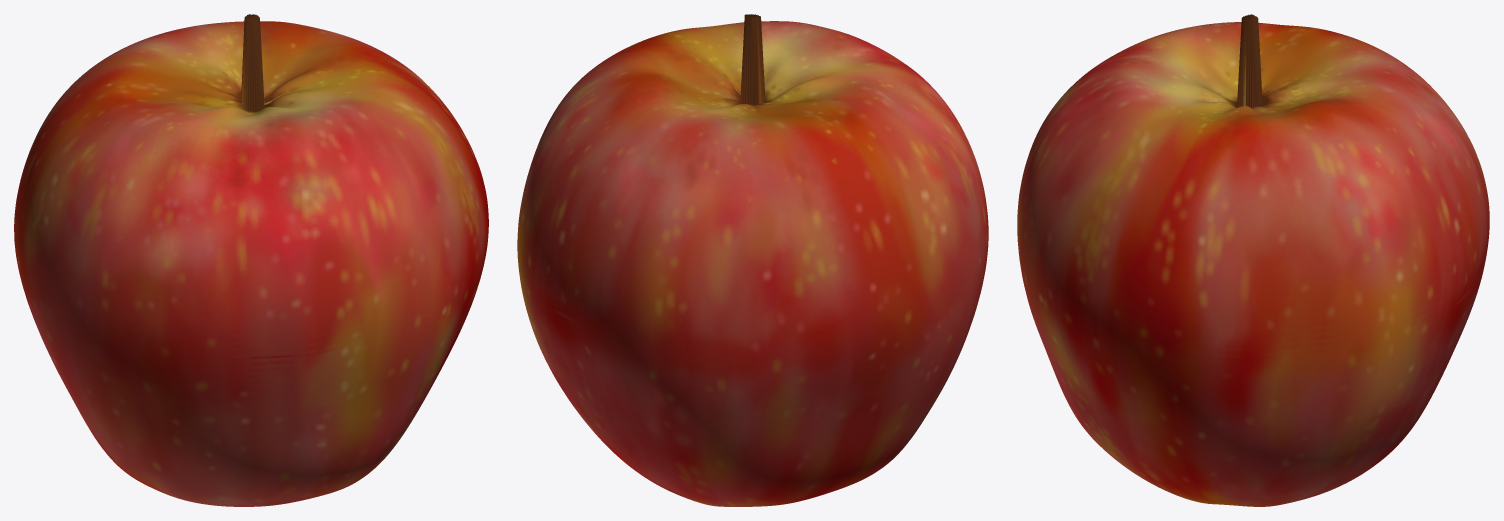
File: apple.obj
3 renders of one model, left to right at view 1: azimuth 30°, elevation 25°; view 2: azimuth 150°, elevation 25°; view 3: azimuth 270°, elevation 25°, orthographic.
Visible parts, largest first — view 1: Apple; view 2: Apple; view 3: Apple.
Boxes of the visible parts, <box> form: Apple: <box>14,14,488,506</box>; Apple: <box>517,14,988,506</box>; Apple: <box>1017,14,1489,506</box>.
Size of what is drawn, in the model's own units: 0.8049 by 0.8795 by 0.8085.
Materials: 1 (1 with a texture image).
